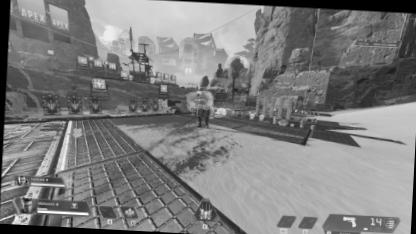Target: (196, 88, 212, 128)
